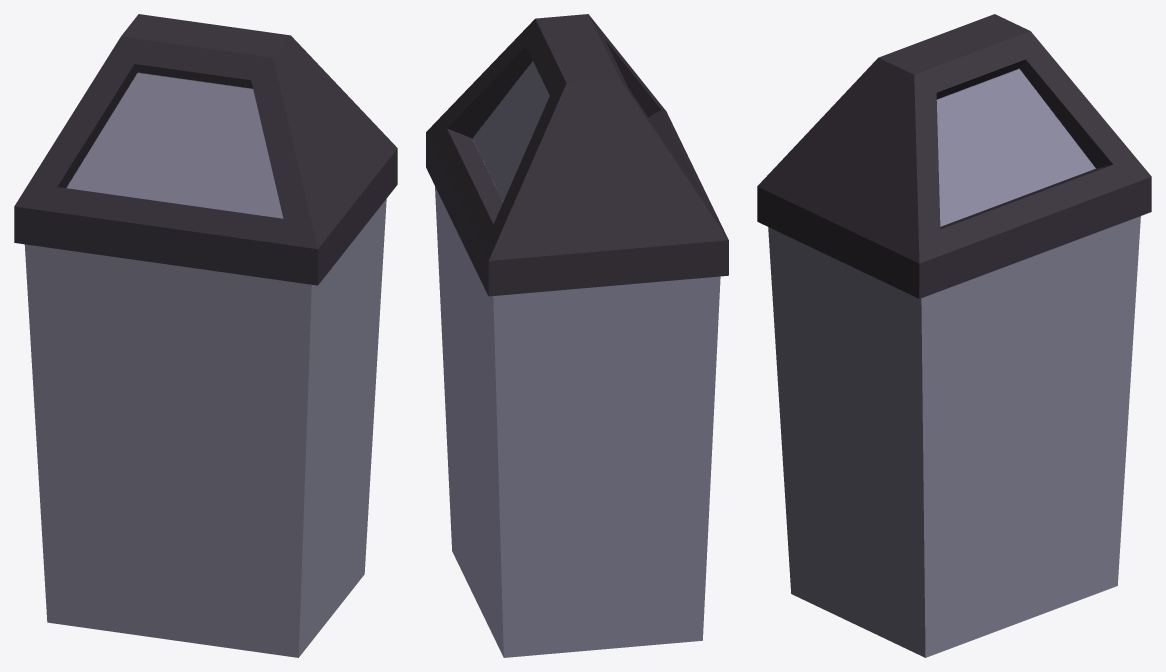
The model's file is TempatSampah.fbx.
The picture shows the model from 3 angles, left to right: view 1: azimuth 30°, elevation 25°; view 2: azimuth 150°, elevation 25°; view 3: azimuth 270°, elevation 25°; orthographic projection. The views are drawn at different scales.
Visible parts, largest first — view 1: TempatSampah.001; view 2: TempatSampah.001; view 3: TempatSampah.001.
Part boxes in pixels (x1,y1,x2,y2): TempatSampah.001: (14, 14, 397, 657); TempatSampah.001: (426, 14, 728, 657); TempatSampah.001: (757, 14, 1151, 657).
Bounding box in the file's own units: 130 × 202 × 132.
Materials: 1 (1 with a texture image).
